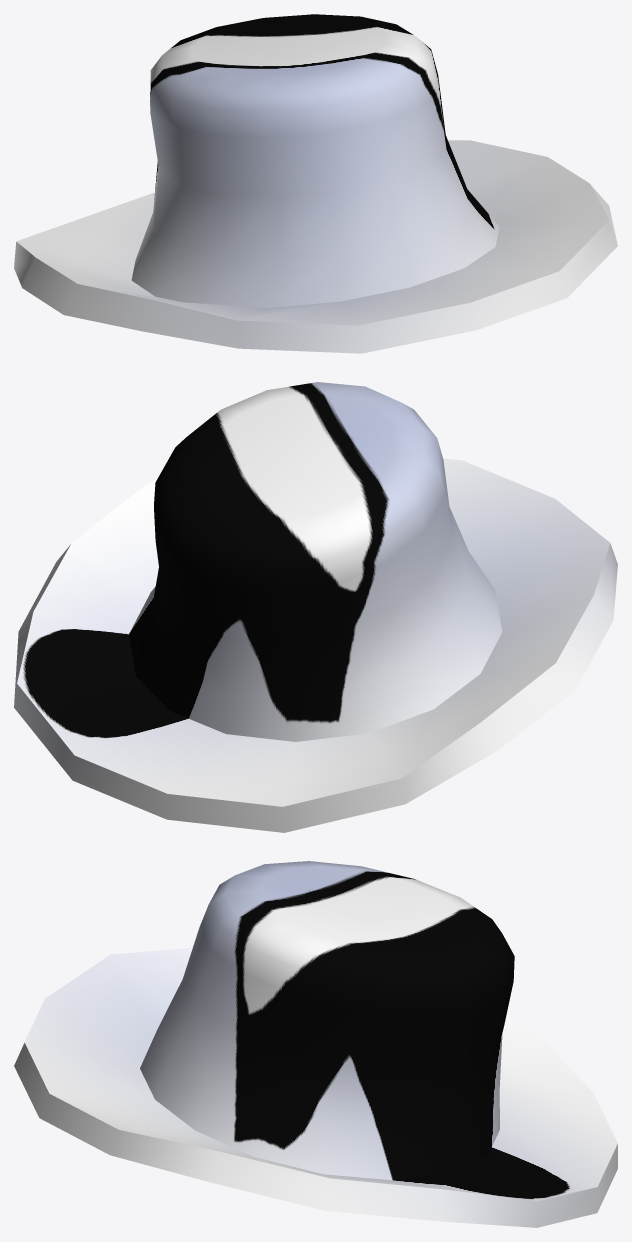
File: Hat_only.FBX
3 views of the same model, one above another, from view 1: azimuth 30°, elevation 25°; view 2: azimuth 150°, elevation 25°; view 3: azimuth 270°, elevation 25° (orthographic). The views are drawn at different scales.
Visible parts, largest first — view 1: Players_hat_1; view 2: Players_hat_1; view 3: Players_hat_1.
Boxes of the visible parts, x1,y1,x2,y2 form: Players_hat_1: (14, 14, 617, 353); Players_hat_1: (14, 382, 617, 832); Players_hat_1: (14, 861, 617, 1227).
Size of the model in its own units: 23.5 by 12.55 by 24.58.
